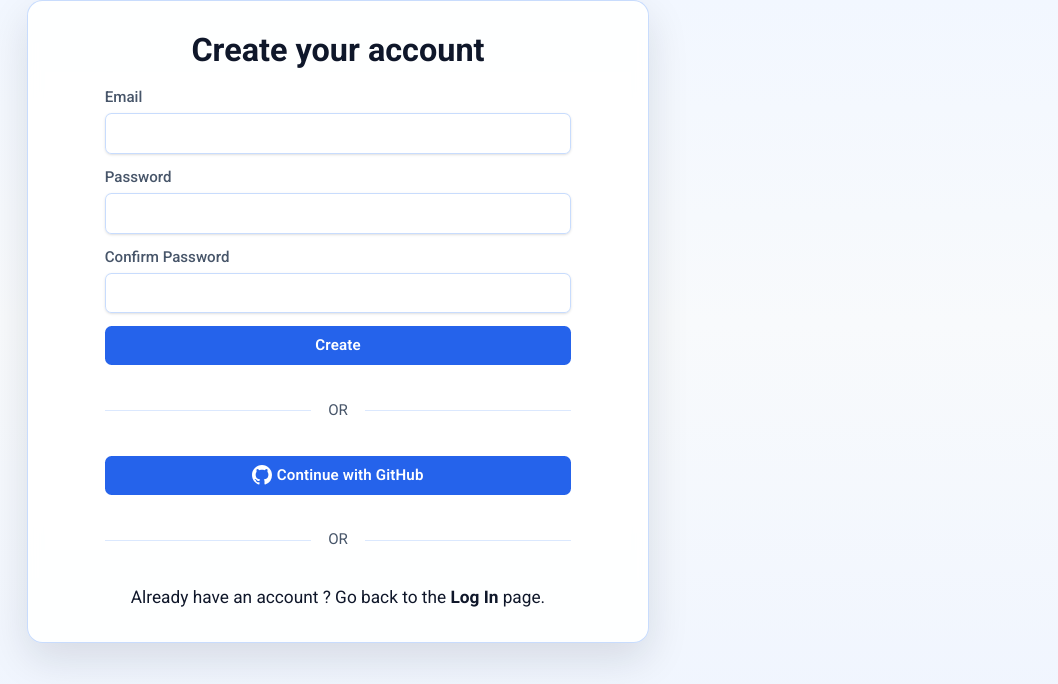
it: SignUp Form Submit › Redirects to LogIn on successful form submit
The width and height of the screenshot is (1058, 684).
Type "newemail@mail.com" into the field labelled "Email" at (338, 134), box 105,113 -> 571,154
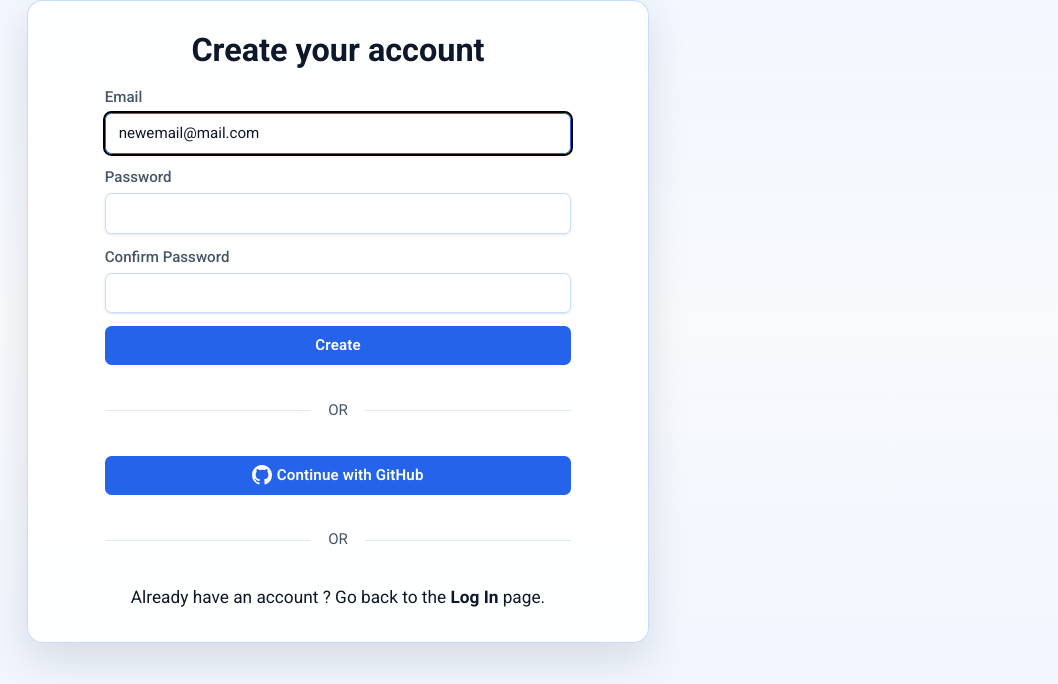
Type "Password123!" into the password field labelled "Password" at (338, 213), box 105,193 -> 571,234
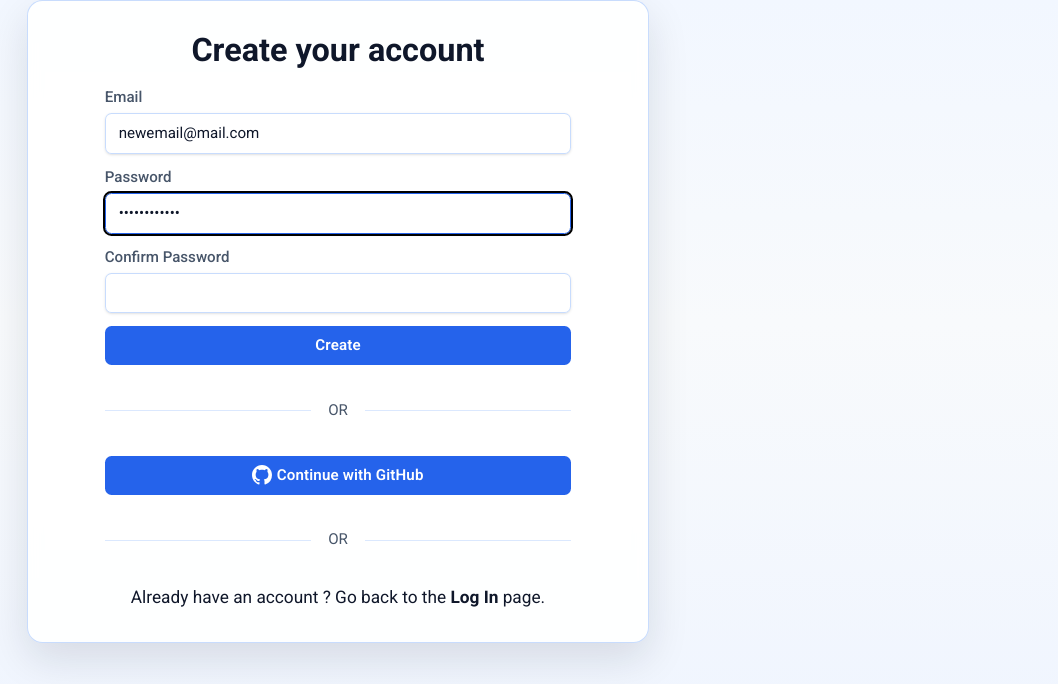
Type "Password123!" into the password field labelled "Confirm Password" at (338, 293), box 105,273 -> 571,313
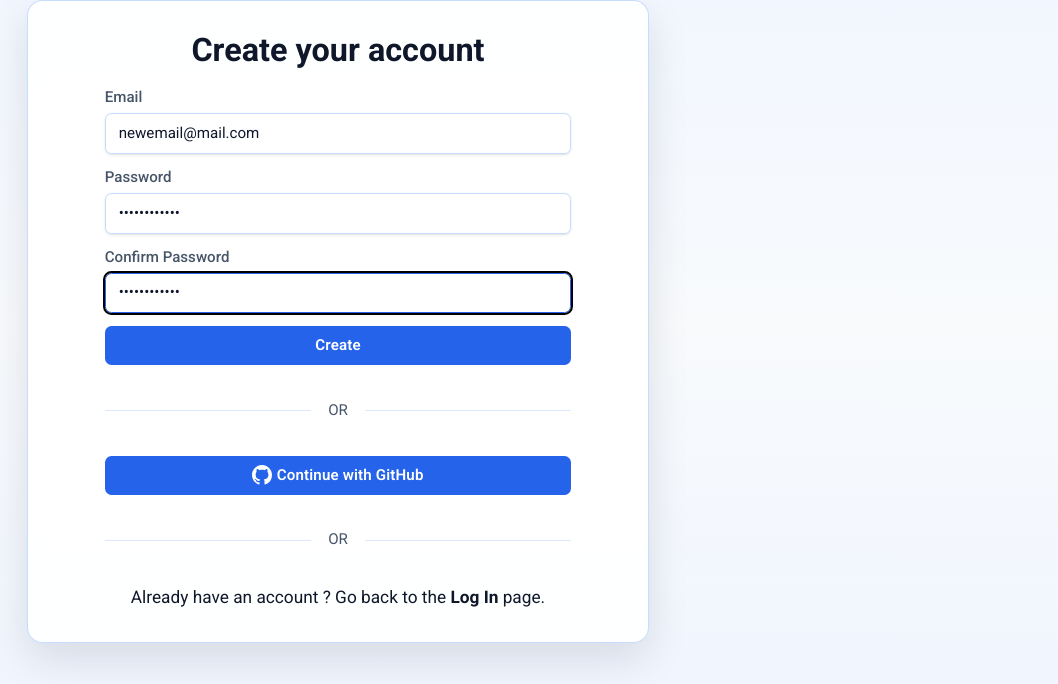
Click the button "Create" at (338, 346), box 105,326 -> 571,365
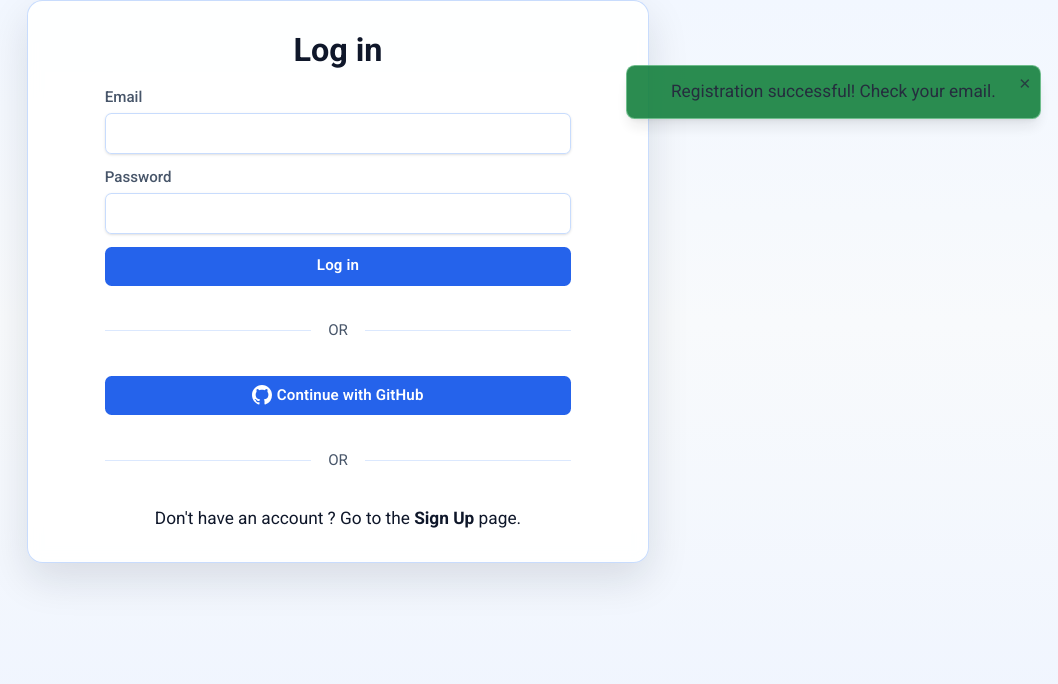
Result: the button "Log in" is shown at 105,247 -> 571,286
Result: the text "Registration successful! Check your email." is shown at 671,79 -> 996,105
